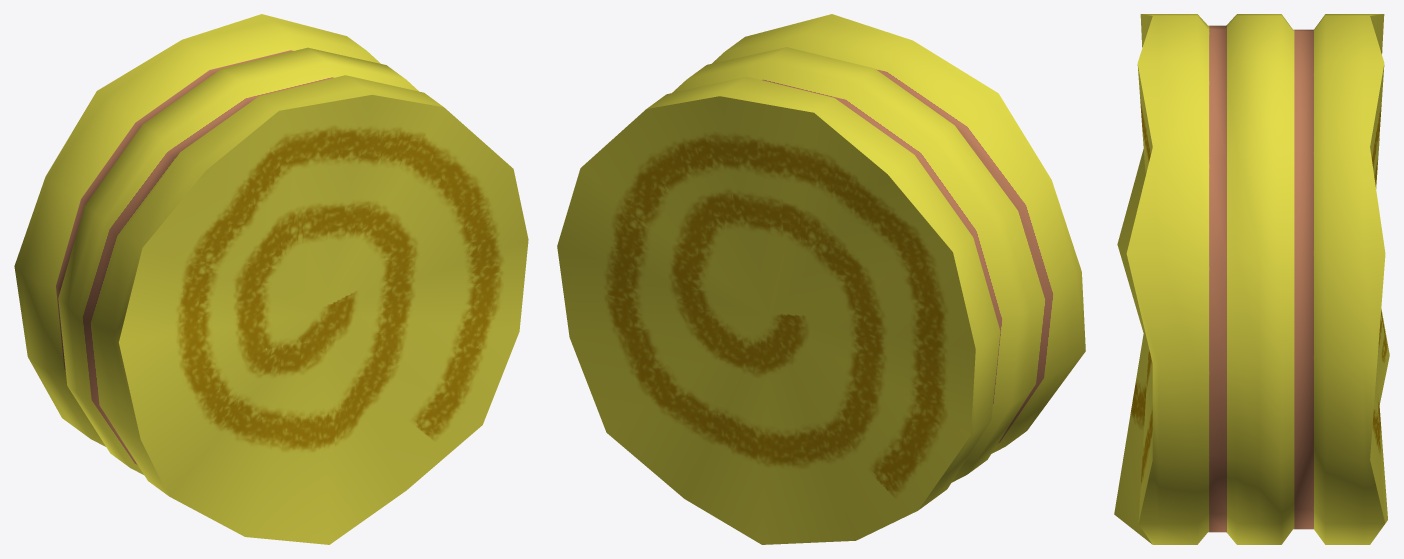
File: HayB.fbx
3 views of the same model, side by side, from view 1: azimuth 30°, elevation 25°; view 2: azimuth 150°, elevation 25°; view 3: azimuth 270°, elevation 25° (orthographic). The views are drawn at different scales.
Visible parts, largest first — view 1: HayB1; view 2: HayB1; view 3: HayB1.
Boxes of the visible parts, <box> form: HayB1: <box>14,14,528,544</box>; HayB1: <box>557,14,1085,544</box>; HayB1: <box>1114,14,1389,544</box>.
Bounding box in the file's own units: 149 × 148 × 77.16.
Materials: 1 (1 with a texture image).
